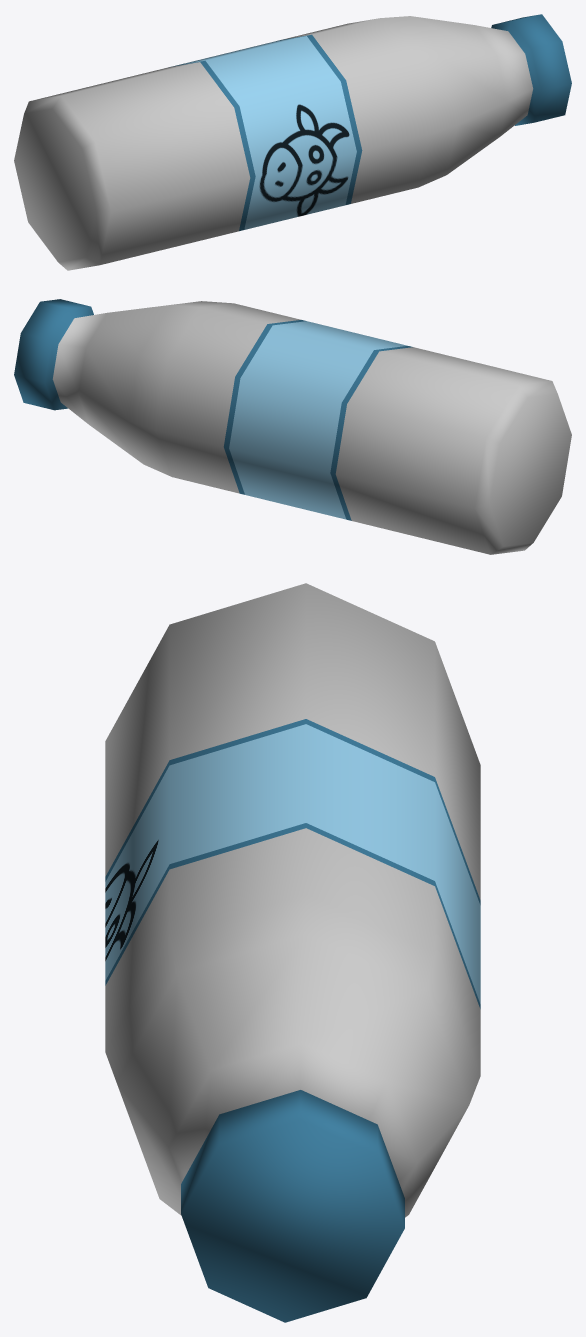
The model's file is garrafa_leite.fbx.
The picture shows the model from 3 angles, top to bottom: view 1: azimuth 30°, elevation 25°; view 2: azimuth 150°, elevation 25°; view 3: azimuth 270°, elevation 25°; orthographic projection. The views are drawn at different scales.
Visible parts, largest first — view 1: garrafa de leite.002; view 2: garrafa de leite.002; view 3: garrafa de leite.002.
Boxes of the visible parts, left/top/right/bottom form: garrafa de leite.002: left=14, top=14, right=571, bottom=270; garrafa de leite.002: left=14, top=299, right=571, bottom=554; garrafa de leite.002: left=105, top=583, right=480, bottom=1322.
Bounding box in the file's own units: 67.52 × 22.45 × 22.45.
Materials: 1 (1 with a texture image).
